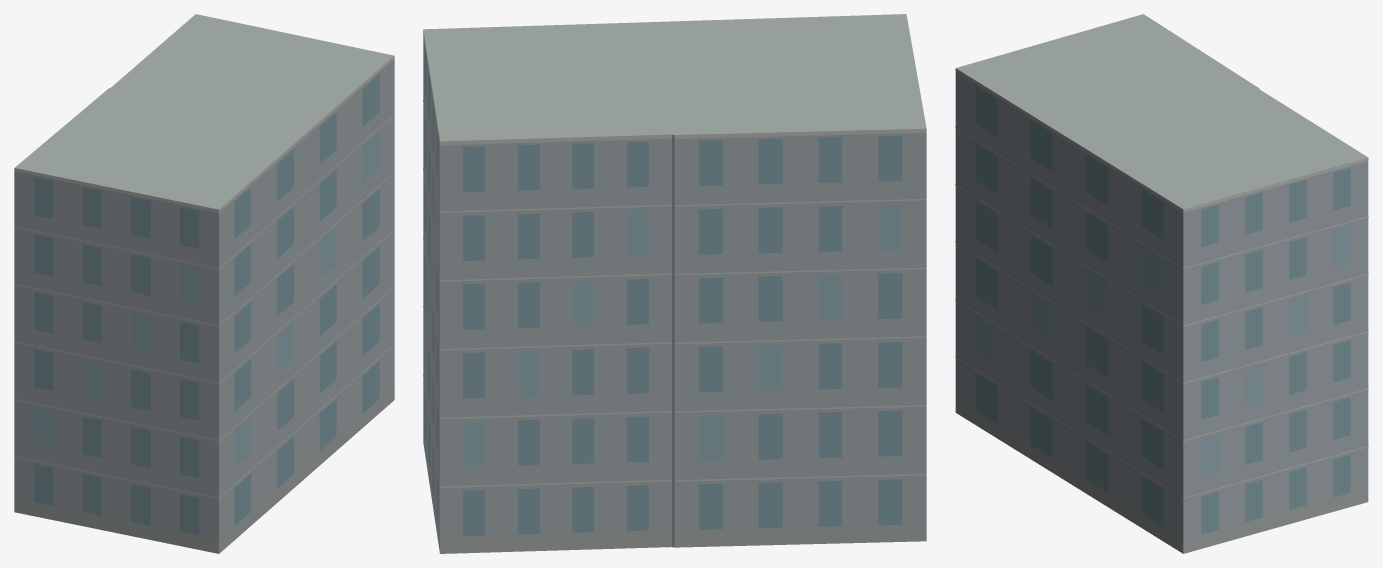
File: survey-upis-32683149.glb
The picture shows the model from 3 angles, left to right: view 1: azimuth 30°, elevation 25°; view 2: azimuth 150°, elevation 25°; view 3: azimuth 270°, elevation 25°; orthographic projection. The views are drawn at different scales.
Visible parts, largest first — view 1: survey-upis-32683149.tmp; view 2: survey-upis-32683149.tmp; view 3: survey-upis-32683149.tmp.
Part boxes in pixels (x1,y1,x2,y2): survey-upis-32683149.tmp: [14, 14, 394, 553]; survey-upis-32683149.tmp: [423, 14, 926, 553]; survey-upis-32683149.tmp: [955, 14, 1368, 553].
Size of the model in its own units: 29.94 by 24.6 by 26.73.
